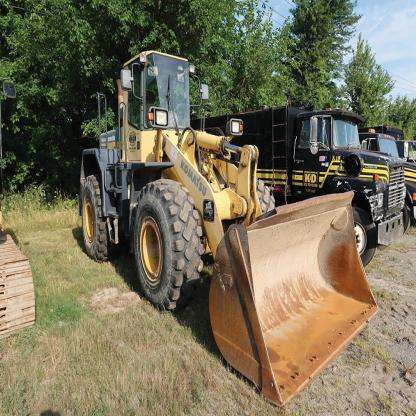bull_dozer/loader/grader: (75, 48, 382, 411)
